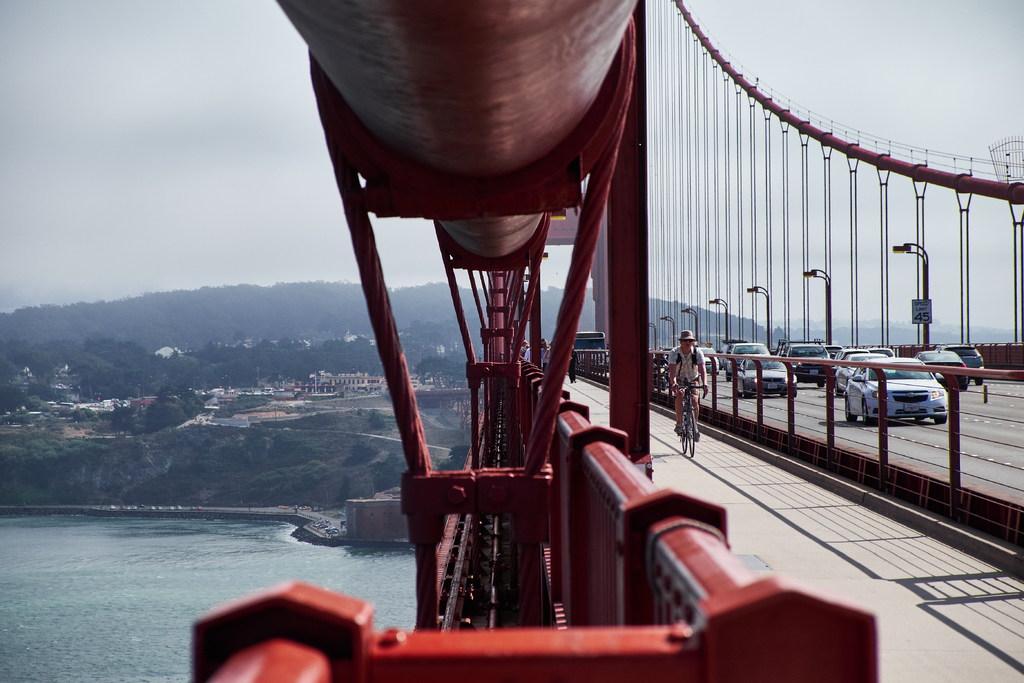Car: (698, 335, 986, 424)
